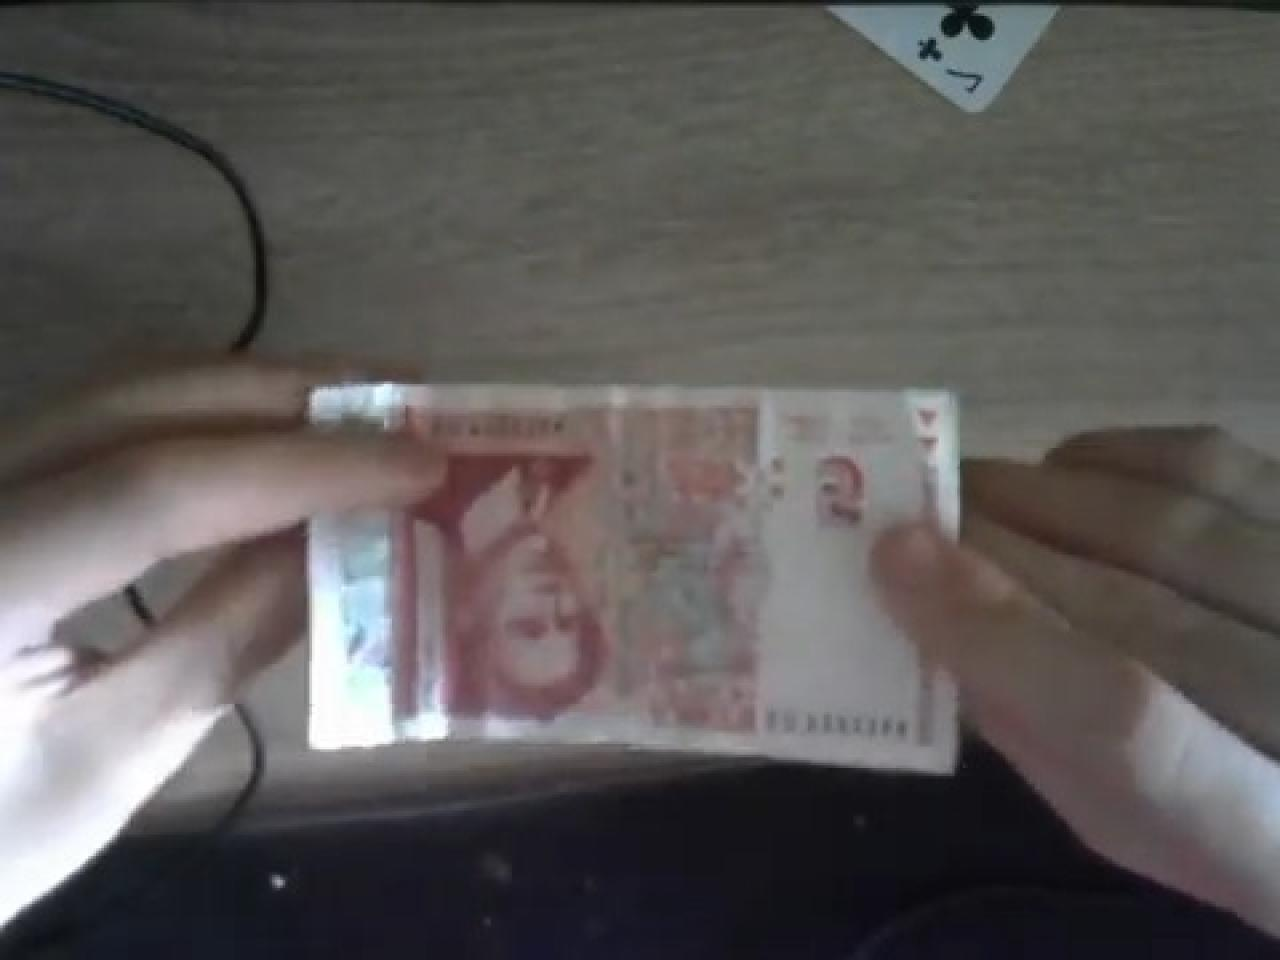5leva: (304, 381, 959, 773)
